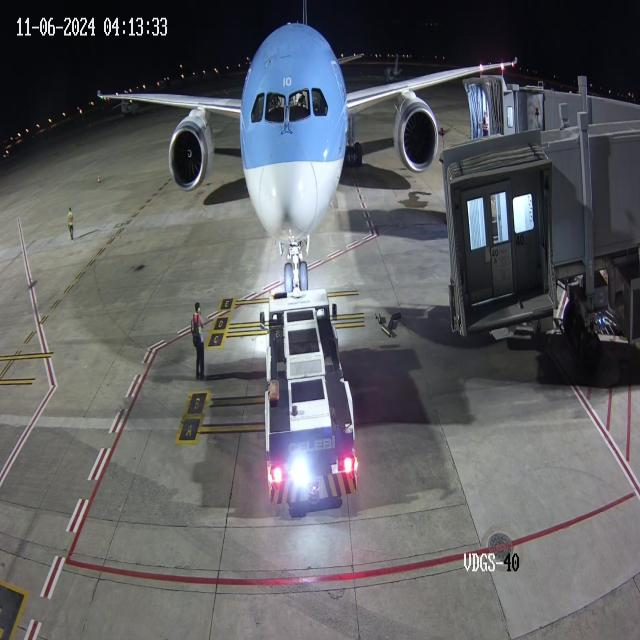plane: (91, 13, 441, 293)
window: (248, 77, 334, 138)
